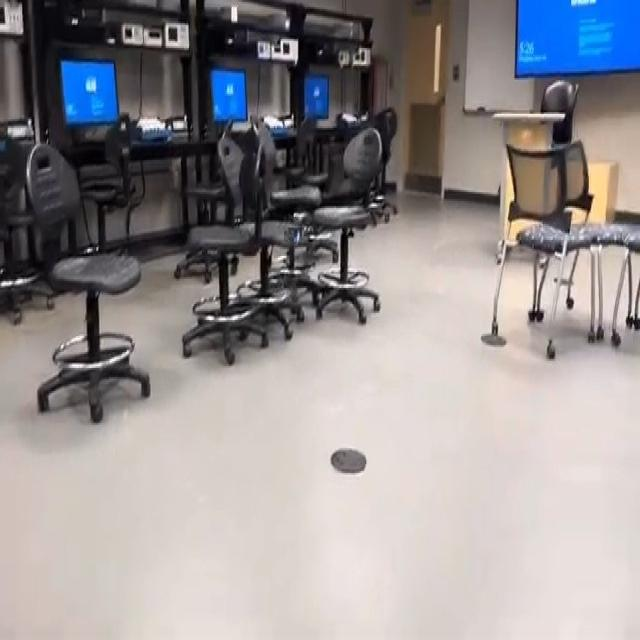drone: (274, 212, 322, 256)
